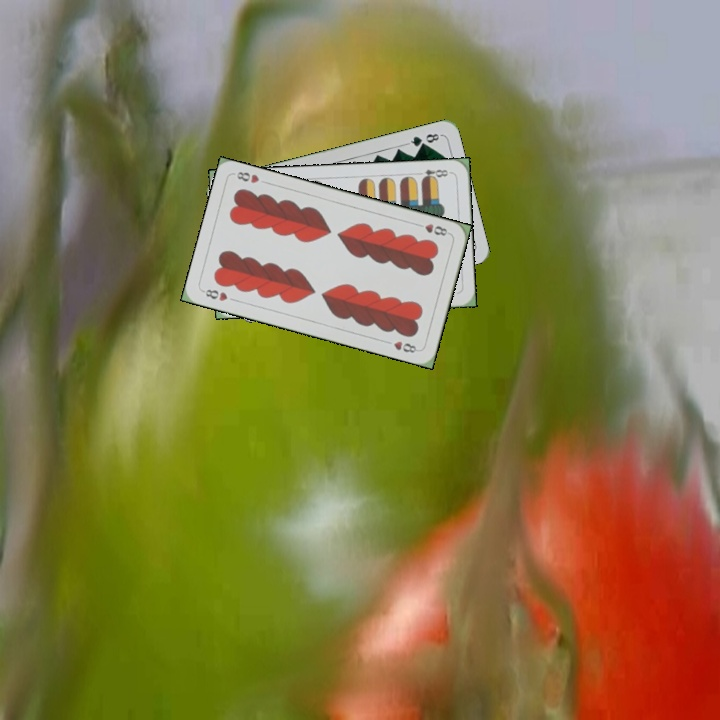E8: (413, 165, 453, 183)
G8: (403, 129, 443, 149)
H8: (412, 220, 452, 238), (199, 285, 230, 304)
